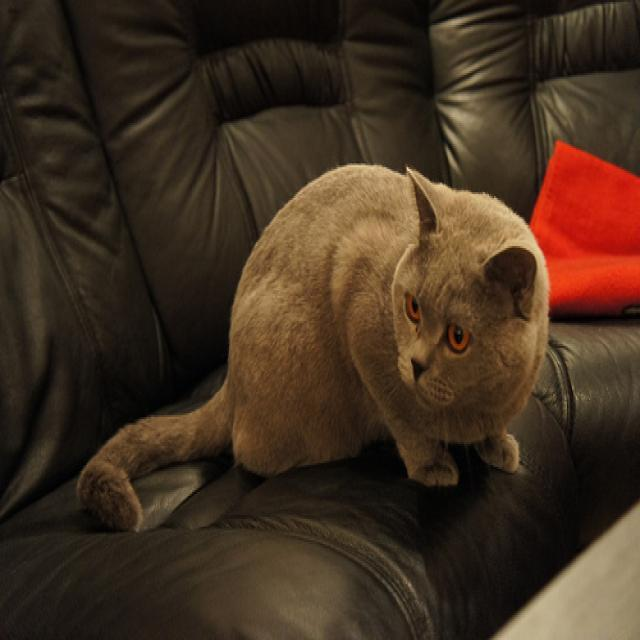British_Shorthair: (373, 168, 546, 428)
